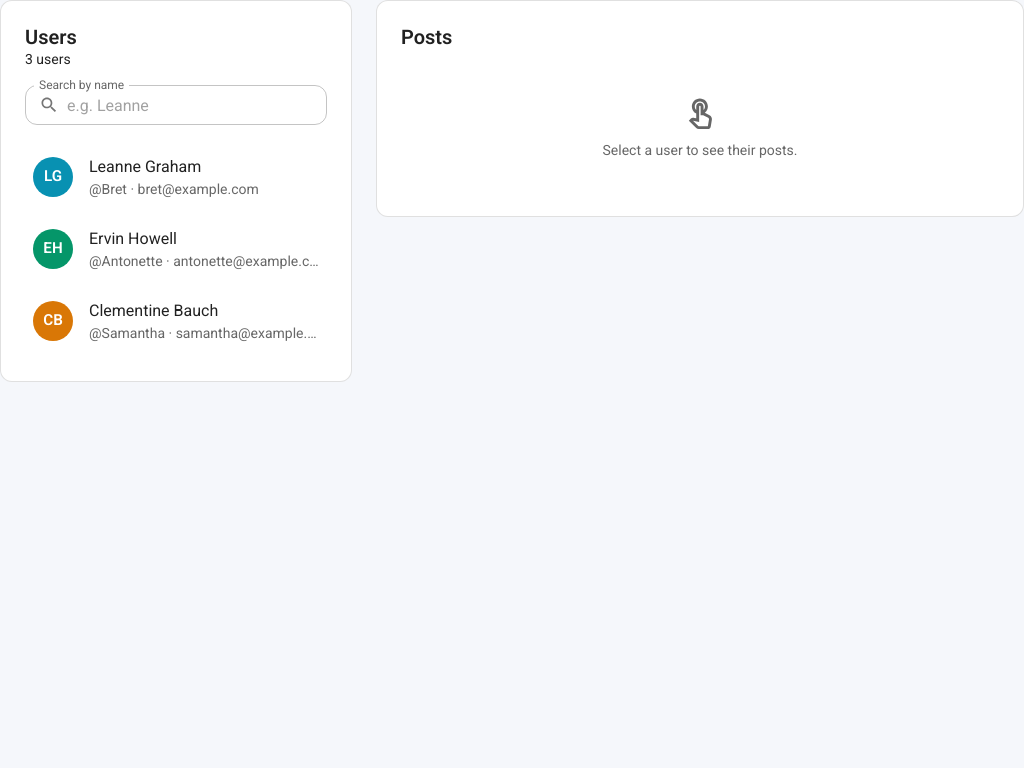
UsersPostsPage › shows the posts of the user the person selects
Click the button "LG Leanne Graham @Bret · bret@example.com": (146, 177) left=33, top=157, right=259, bottom=197
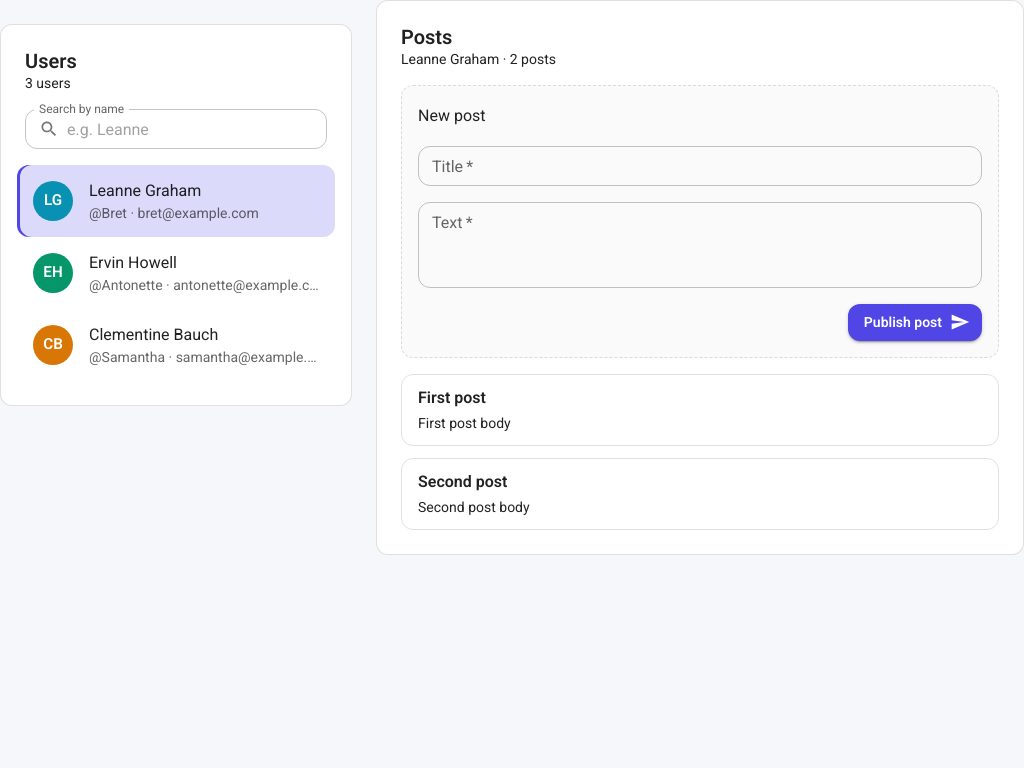
expect the heading "First post" is shown: met, box left=418, top=388, right=486, bottom=406
Click the button "EH Ervin Howell @Antonette · antonette@example.com": (53, 273) left=33, top=253, right=330, bottom=293
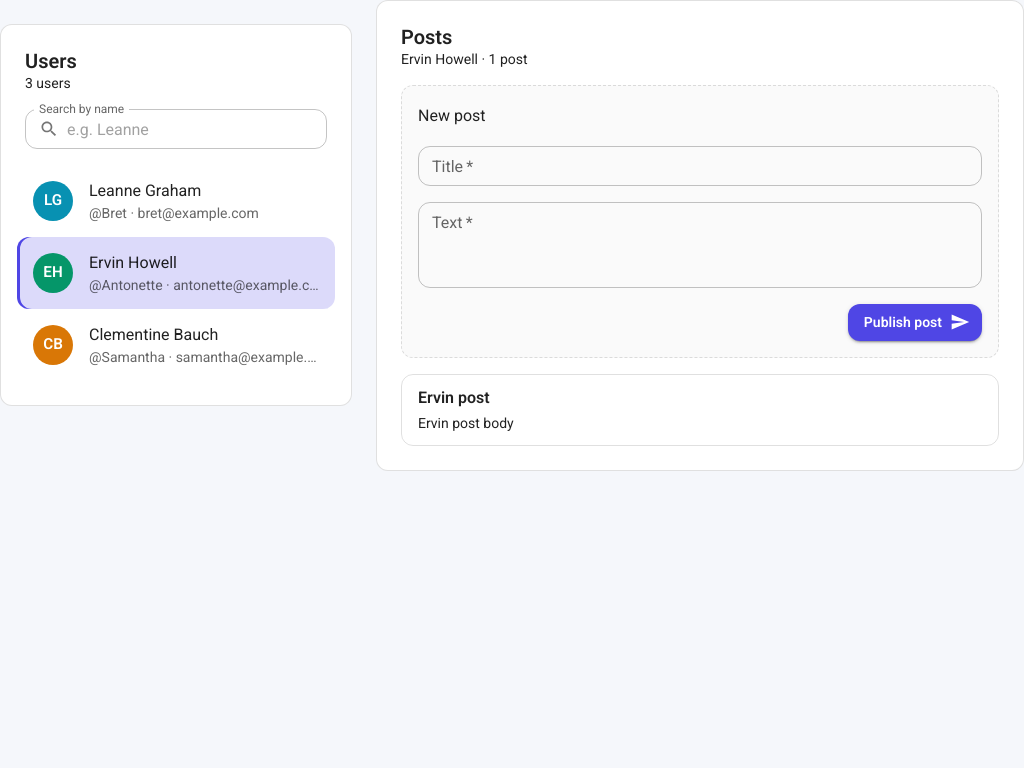
expect the heading "Ervin post" is shown: met, box left=418, top=388, right=490, bottom=406
expect the number of elements with test id "post-card" is 1: met, box left=401, top=374, right=999, bottom=446
expect the heading "First post" is gone: met
